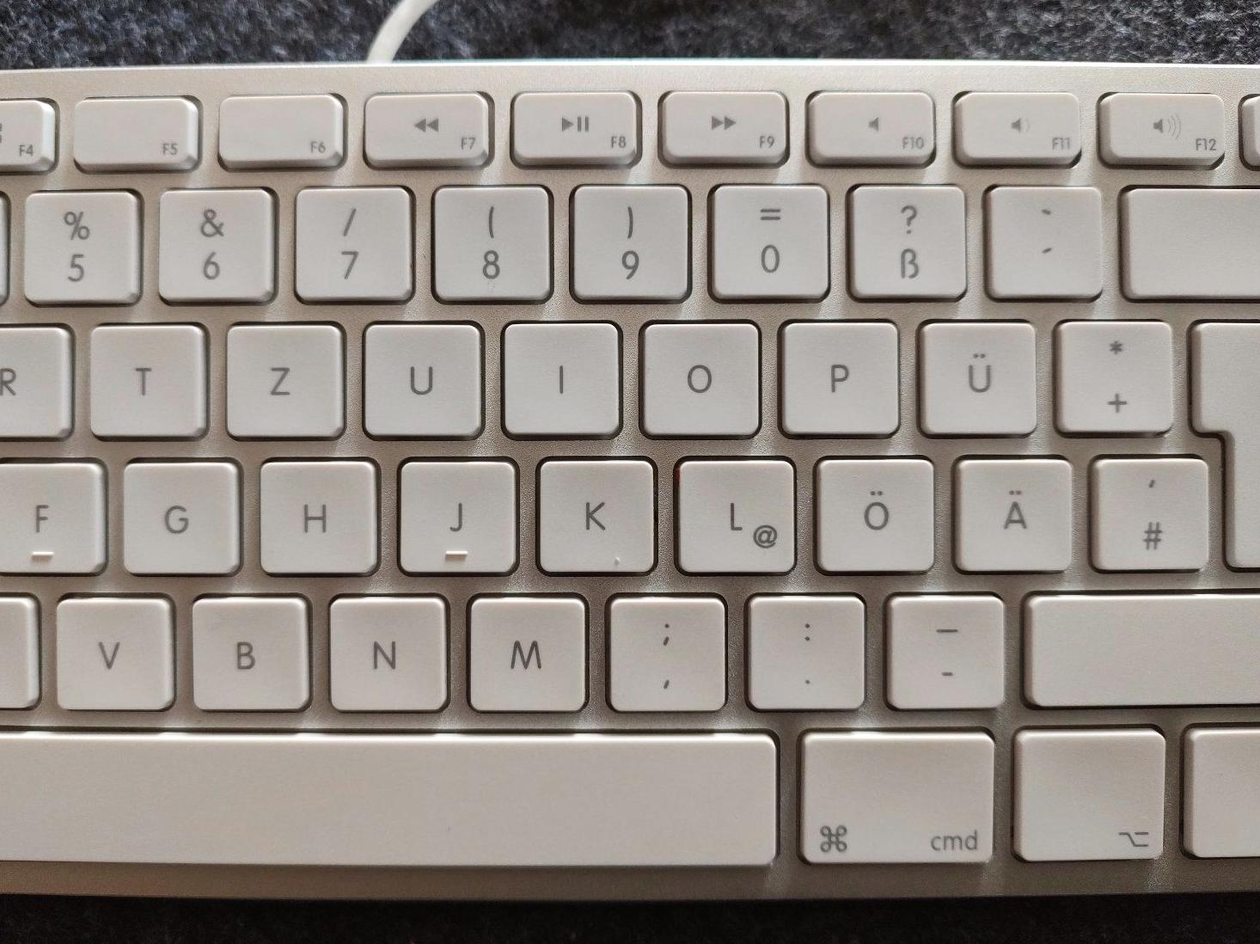0: (703, 177, 831, 301)
4: (1, 185, 46, 306)
5: (15, 185, 142, 307)
6: (150, 181, 278, 304)
7: (289, 180, 416, 303)
8: (427, 179, 554, 303)
9: (565, 178, 693, 302)
accent: (981, 179, 1107, 300)
ae: (949, 451, 1073, 575)
altgr-right: (1010, 726, 1172, 868)
b: (185, 590, 313, 713)
c: (1, 589, 62, 711)
comma: (602, 591, 729, 712)
del: (1117, 180, 1260, 301)
enter: (1184, 316, 1260, 568)
f: (1, 456, 107, 576)
g: (117, 456, 242, 576)
h: (254, 453, 380, 576)
hash: (1084, 451, 1213, 573)
i: (498, 313, 623, 438)
j: (394, 453, 519, 575)
k: (530, 452, 658, 576)
keyboard: (1, 38, 1260, 932)
l: (670, 451, 798, 577)
m: (462, 588, 590, 714)
minus: (882, 589, 1009, 708)
n: (322, 589, 450, 714)
o: (635, 314, 762, 439)
oe: (810, 452, 937, 576)
p: (775, 312, 902, 438)
plus: (1052, 314, 1178, 435)
point: (742, 589, 869, 710)
r: (1, 319, 74, 443)
shift-right: (1018, 585, 1260, 708)
space: (1, 726, 790, 875)
ss: (842, 184, 969, 305)
t: (83, 316, 209, 441)
u: (357, 315, 485, 441)
ue: (917, 319, 1043, 440)
v: (48, 590, 175, 712)
z: (220, 316, 347, 441)
